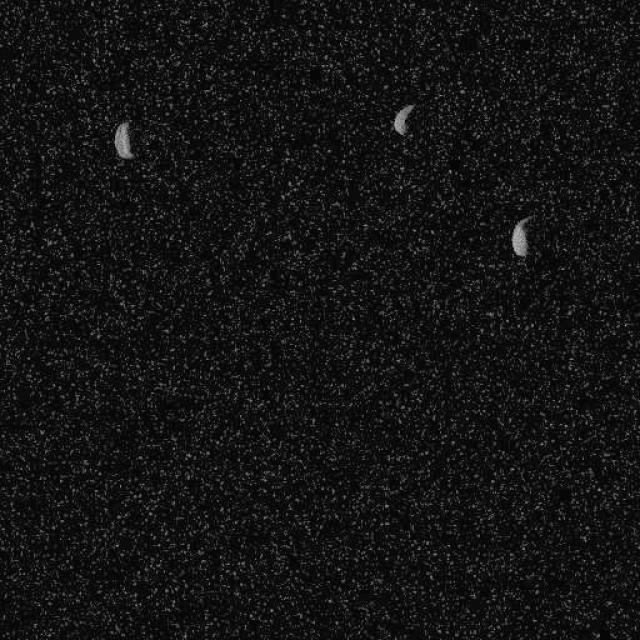D2: (510, 215, 531, 257), (112, 120, 134, 160), (391, 103, 415, 135)
